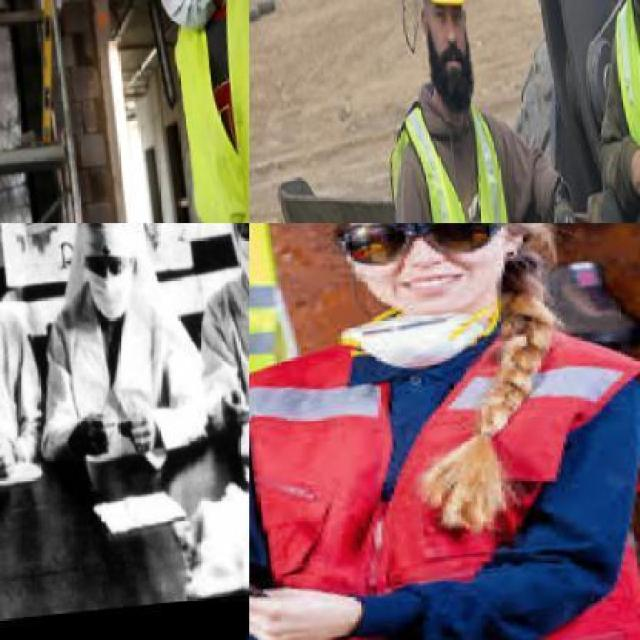Vest: (250, 283, 638, 639), (158, 0, 248, 222), (374, 92, 512, 222)
